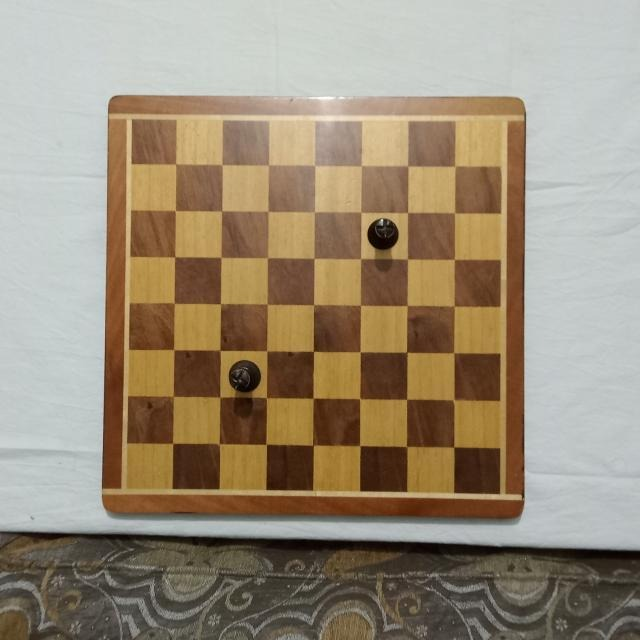black-rook: (226, 358, 261, 393), (366, 216, 400, 251)
